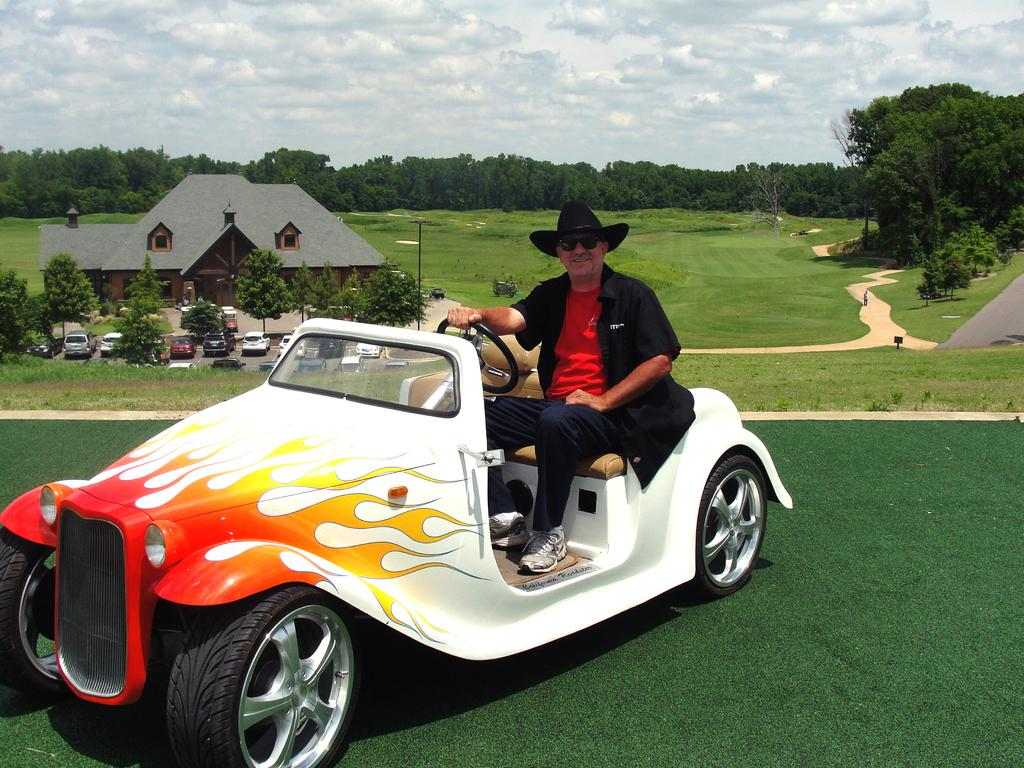Hat: (530, 200, 628, 260)
